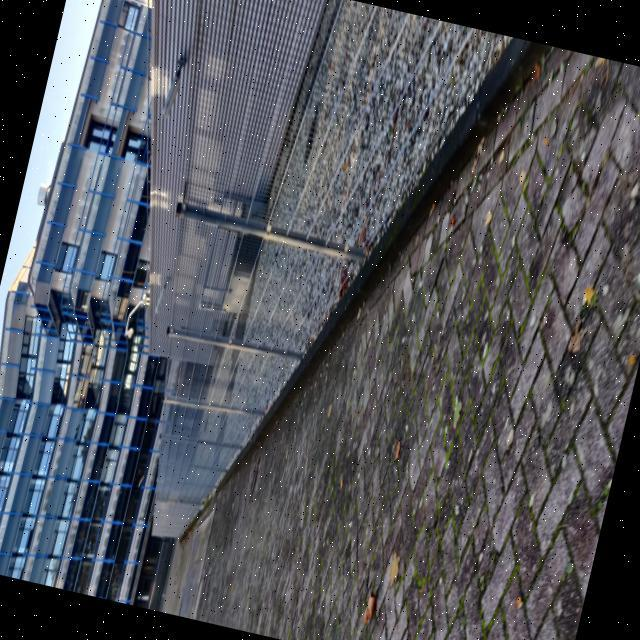fence line: (146, 0, 507, 357), (126, 209, 351, 578)
